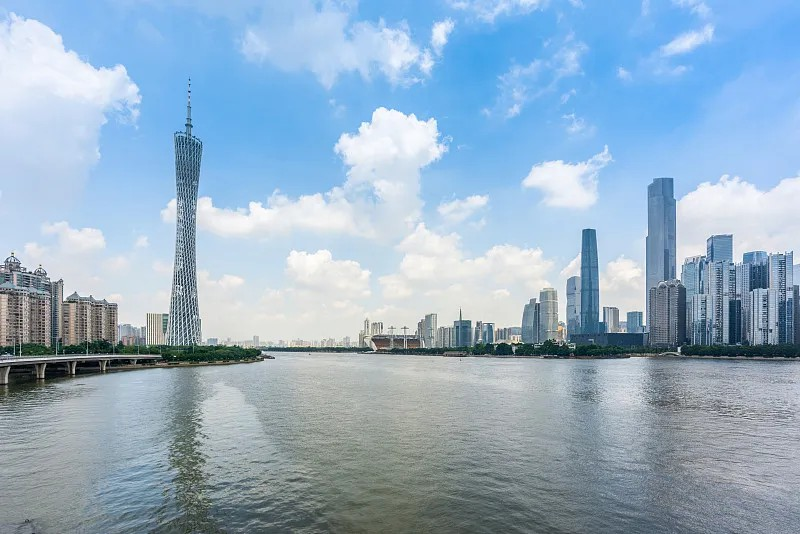Canton: (165, 74, 201, 345)
